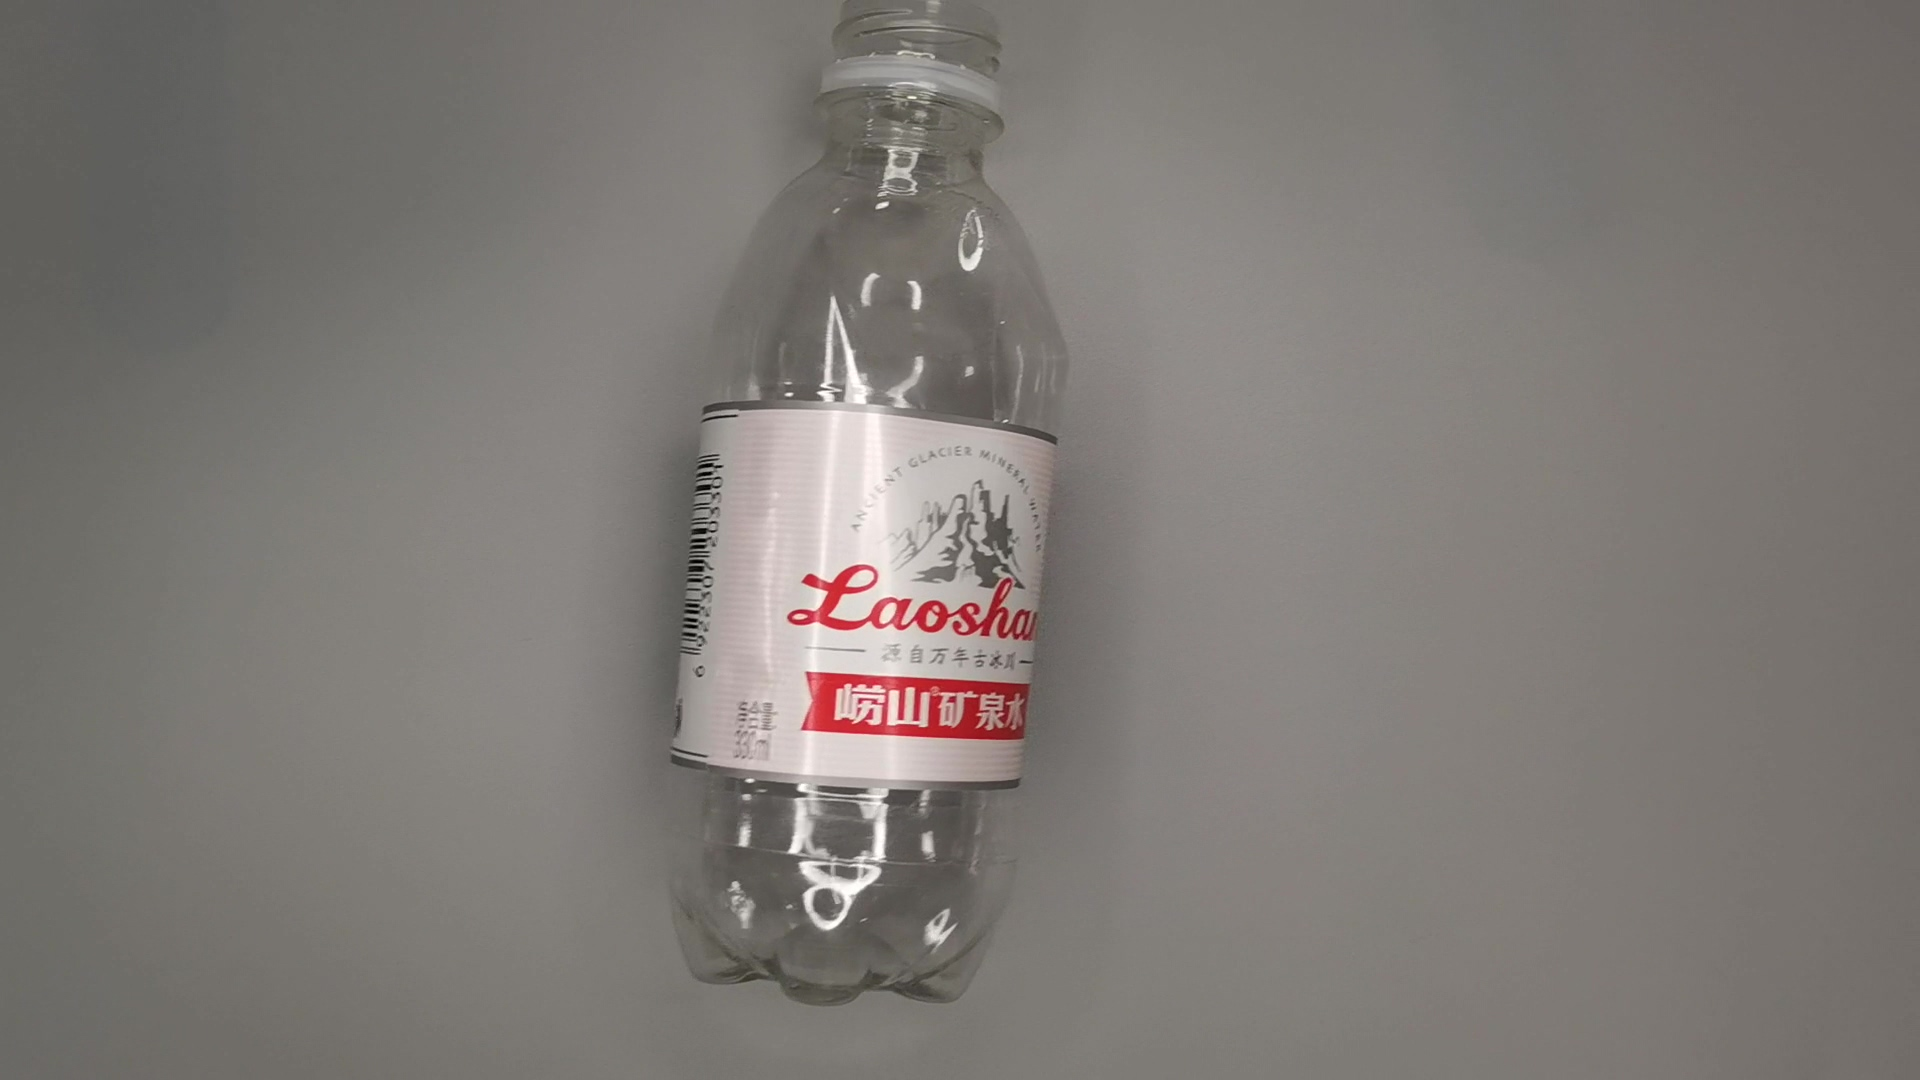bottle: (662, 1, 1083, 1015)
